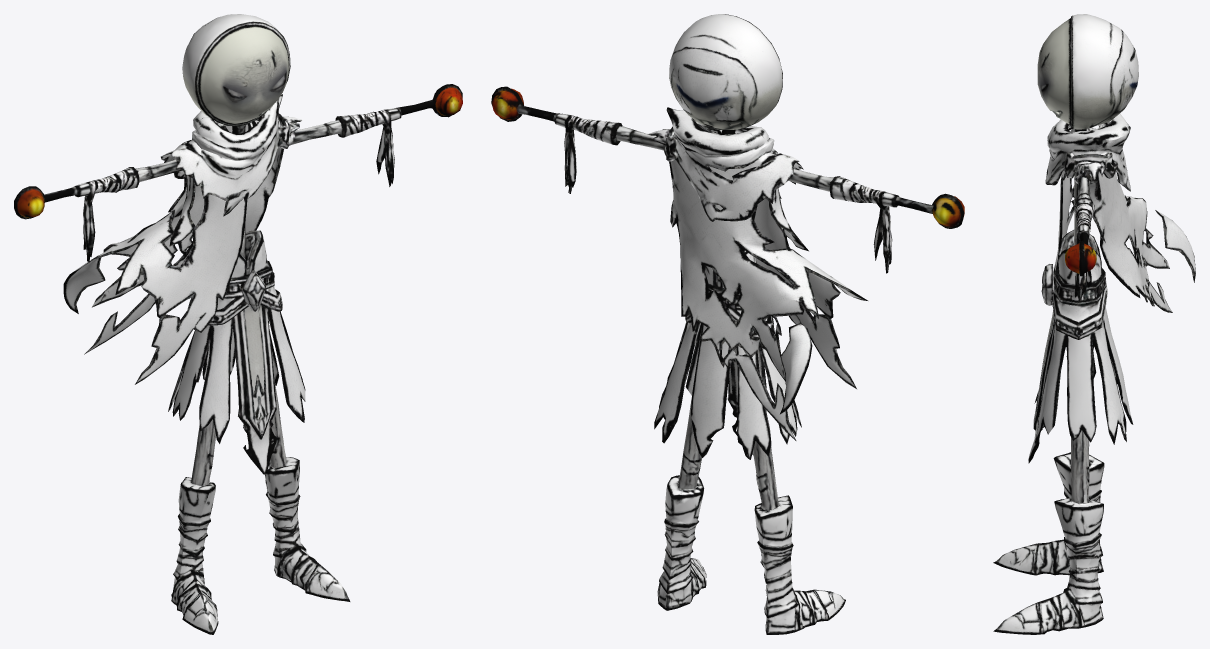
3 views of the same model, side by side, from view 1: azimuth 30°, elevation 25°; view 2: azimuth 150°, elevation 25°; view 3: azimuth 270°, elevation 25° (orthographic). The views are drawn at different scales.
Visible parts, largest first — view 1: world; view 2: world; view 3: world.
Part boxes in pixels (x1,y1,x2,y2): world: (14,14,462,634); world: (491,14,964,634); world: (993,14,1195,634).
Size of the model in its own units: 0.8266 by 1 by 0.3191.
Materials: 1 (1 with a texture image).
